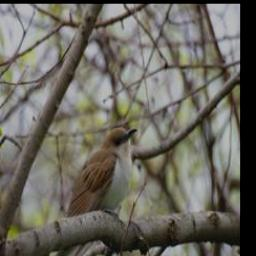Cuckoo: (27, 127, 138, 256)
